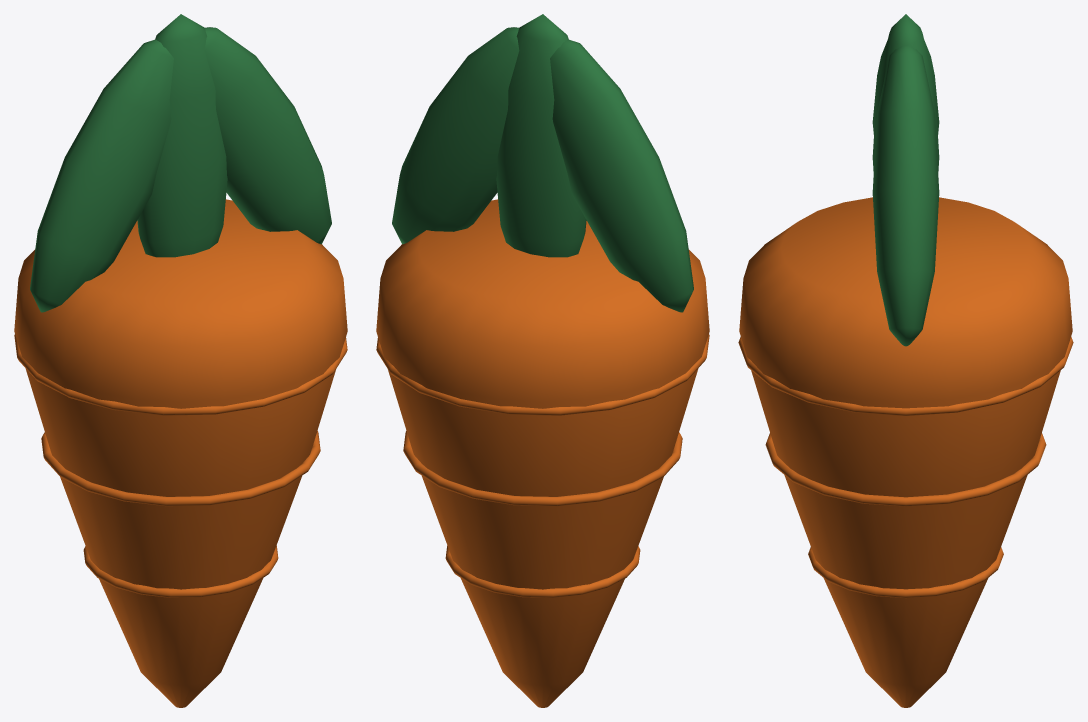
Rendered from item-carrot-turbo.glb.
3 views of the same model, side by side, from view 1: azimuth 30°, elevation 25°; view 2: azimuth 150°, elevation 25°; view 3: azimuth 270°, elevation 25° (orthographic).
Parts seen in each view (by area): view 1: Item_carrot-turbo_VertexPalette; view 2: Item_carrot-turbo_VertexPalette; view 3: Item_carrot-turbo_VertexPalette.
Boxes of the visible parts, left/top/right/bottom form: Item_carrot-turbo_VertexPalette: left=14, top=14, right=347, bottom=707; Item_carrot-turbo_VertexPalette: left=376, top=14, right=709, bottom=707; Item_carrot-turbo_VertexPalette: left=738, top=14, right=1073, bottom=707.
Size of the model in its own units: 0.8296 by 1.83 by 0.804.
